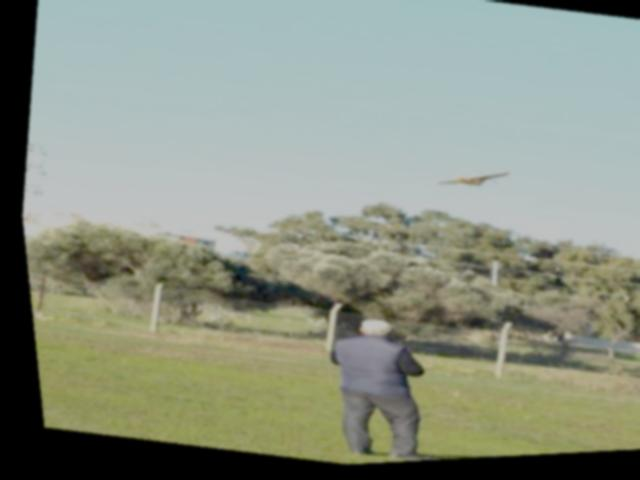iha: (424, 156, 512, 208)
